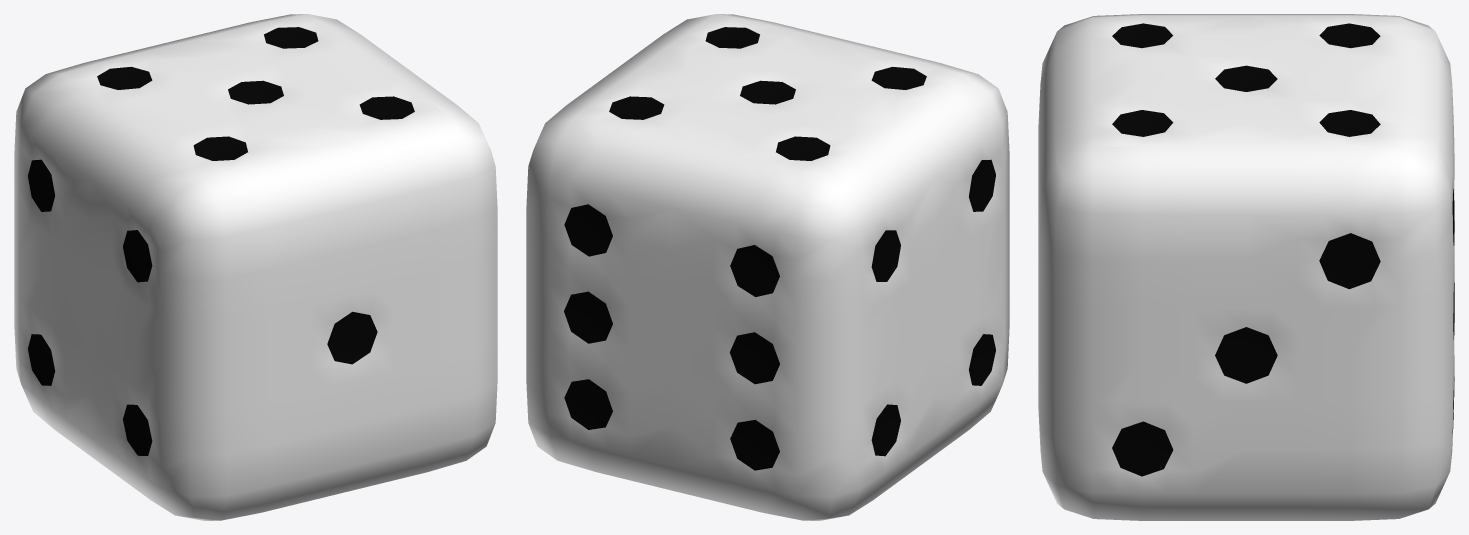
File: dies.glb
The picture shows the model from 3 angles, left to right: view 1: azimuth 30°, elevation 25°; view 2: azimuth 150°, elevation 25°; view 3: azimuth 270°, elevation 25°; orthographic projection. The views are drawn at different scales.
Parts seen in each view (by area): view 1: Cube; view 2: Cube; view 3: Cube.
Part boxes in pixels (x1,y1,x2,y2): Cube: (14,14,497,520); Cube: (526,14,1009,520); Cube: (1038,14,1454,520).
Bounding box in the file's own units: 2 × 2 × 2.
1 material, 1 textured.
